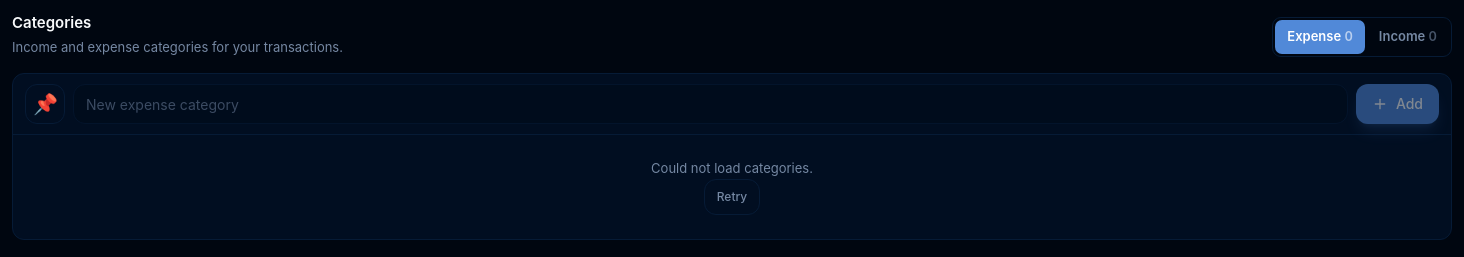
Test case: offers retry after a failed read without accepting new writes
The width and height of the screenshot is (1464, 257).
Expected: the text "Could not load categories." is shown, [651,160,813,176]
Expected: the field named "New category name" is disabled, [73,84,1348,124]
Click the button "Retry": (732, 196) [704,178,760,214]
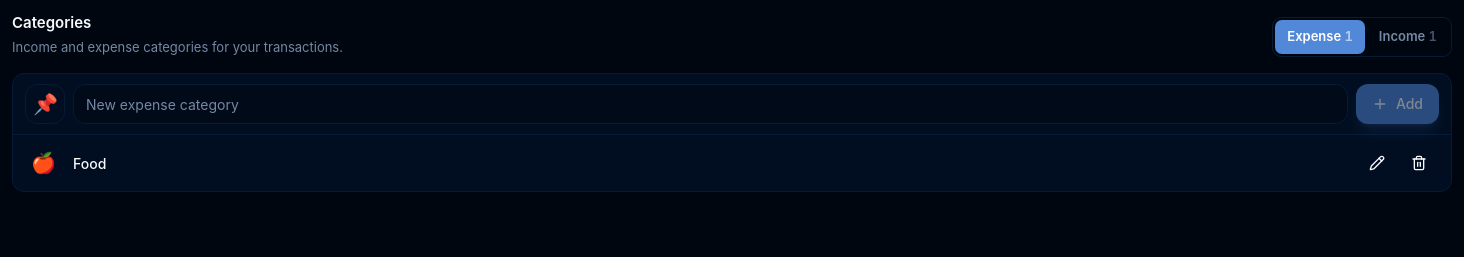
Expected: the text "Food" is shown, [73,154,106,172]
